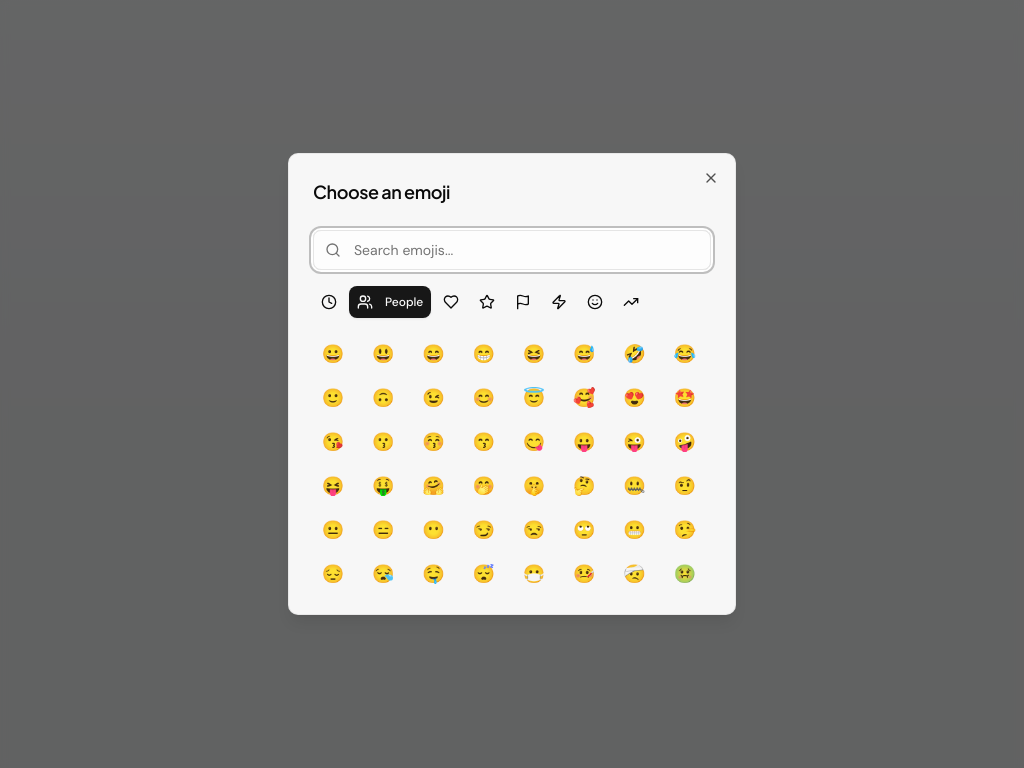
Scenario: EmojiPicker › shows empty state when no emojis found
This screenshot has width=1024, height=768.
Type "nonexistent" into the field with placeholder "Search emojis...".
click(512, 250); type("nonexistent")  # box [313,230,711,270]
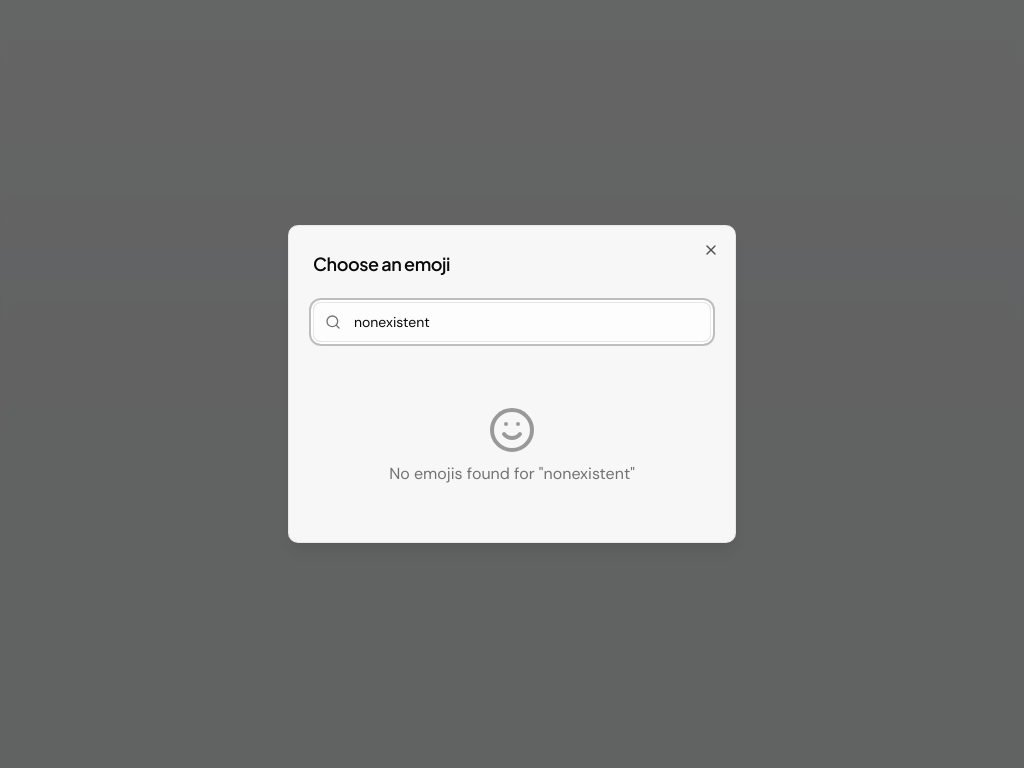
Check: the text "No emojis found for \"nonexistent\"" is shown, box [389,463,635,484]
